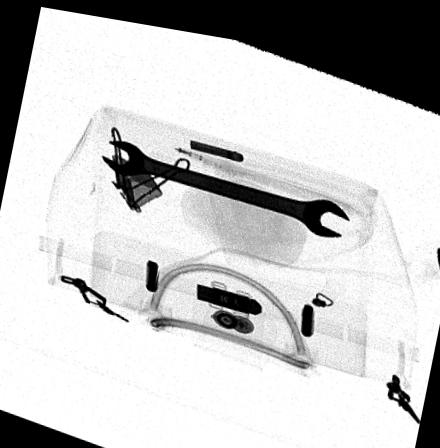Wrench: (99, 134, 350, 226)
